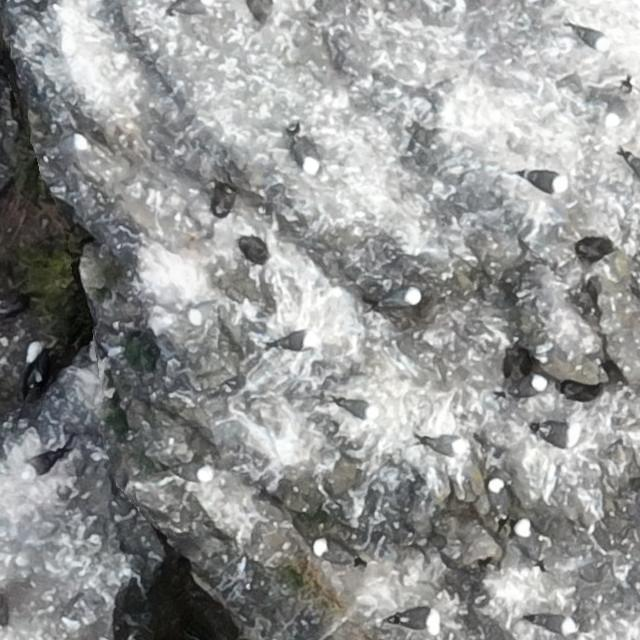umineko: (18, 447, 66, 483), (22, 340, 48, 394), (517, 517, 544, 568), (293, 133, 323, 176), (392, 607, 439, 634), (605, 83, 632, 129), (312, 538, 359, 563), (533, 423, 581, 446), (524, 170, 564, 191), (420, 436, 466, 454), (574, 26, 606, 49), (535, 616, 575, 634), (334, 400, 374, 418), (188, 300, 218, 324), (383, 288, 421, 306), (274, 334, 314, 351), (511, 376, 544, 396), (172, 463, 210, 480), (490, 479, 507, 513), (55, 135, 85, 154), (175, 0, 210, 13)
